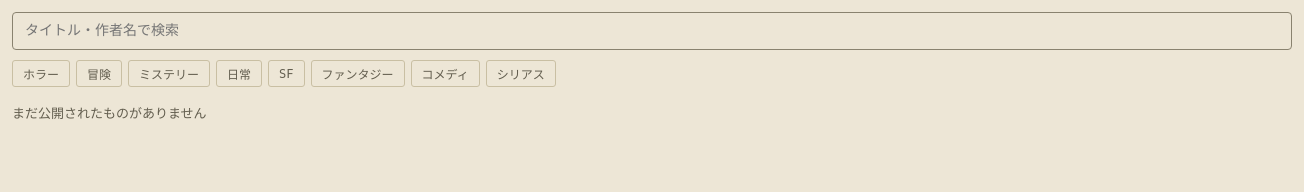
Test: PublicItemList › shows the filtered empty state with a clear button, and clearing resets filters and refetches
Click the button "ホラー" at {"x": 41, "y": 74}, box [12,60,70,87]
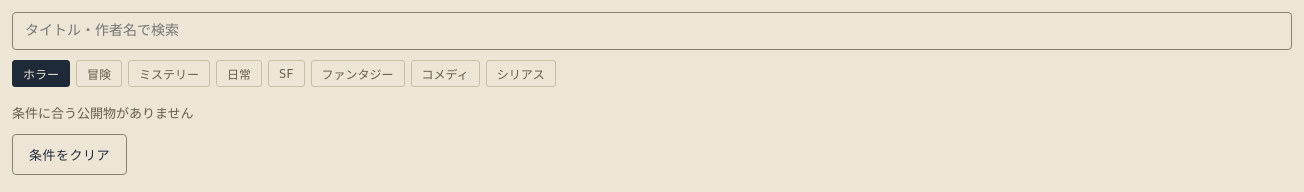
Expected: the text "条件に合う公開物がありません" is shown, [12,106,194,121]
Expected: the button "条件をクリア" is shown
Click the button "条件をクリア" at {"x": 70, "y": 154}, box [12,134,127,175]
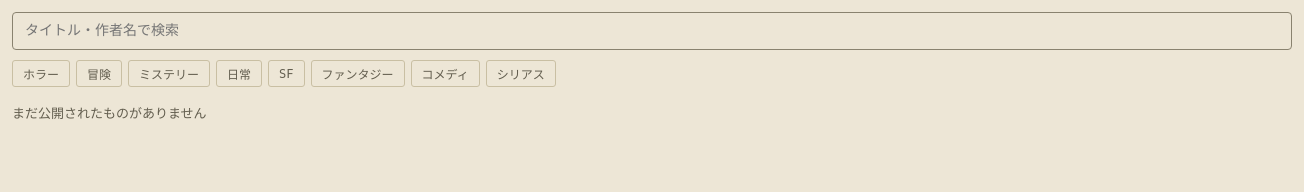
Expected: the text "まだ公開されたものがありません" is shown, [12,106,207,121]
